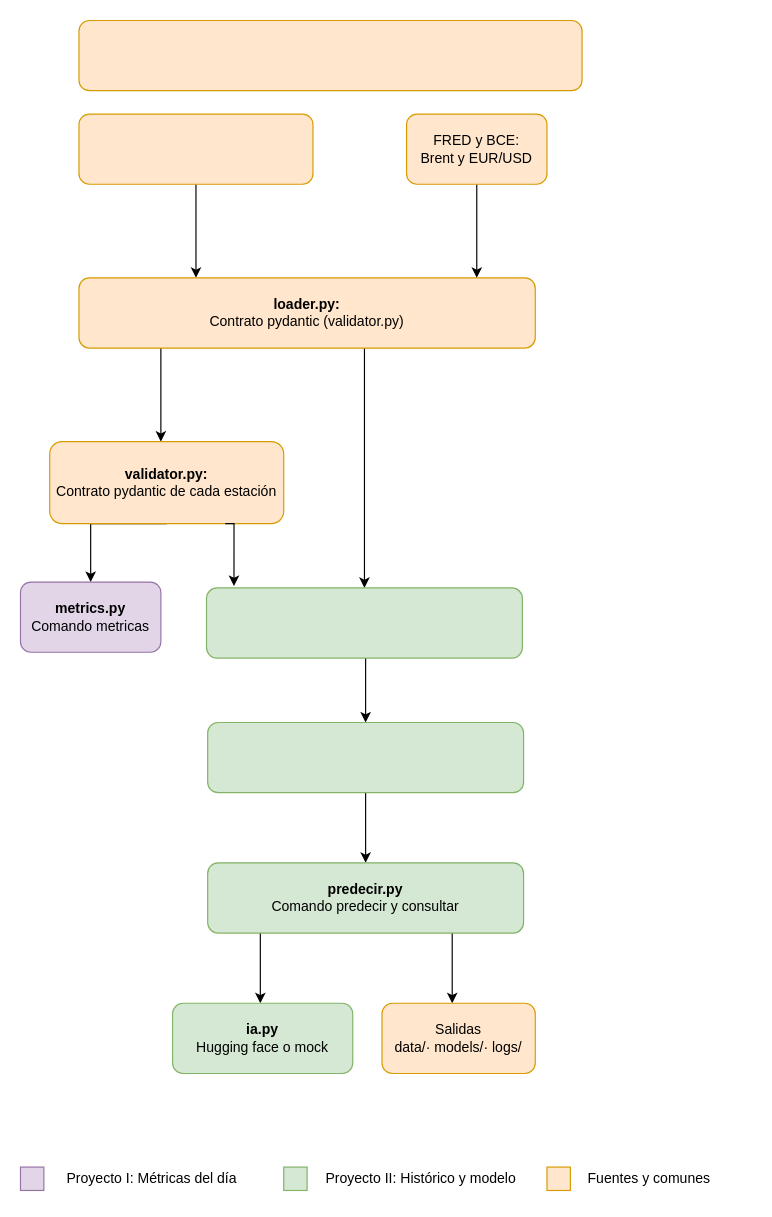
The diagram is 772 pixels wide and 1217 high, and some of its shapes have lost their labels. The centre of each missing label's shape, as x and y in pixels:
"*API del Ministerio*: Precios diarios por gasolinera" belongs at (195,148).
"__main__.py: Una sola línea de comandos" belongs at (330,55).
"histórico.py: Comando de ingesta · un fichero por día" belongs at (363,622).
"modelo.py: Comando entrenar · features + sklearn" belongs at (365,757).
